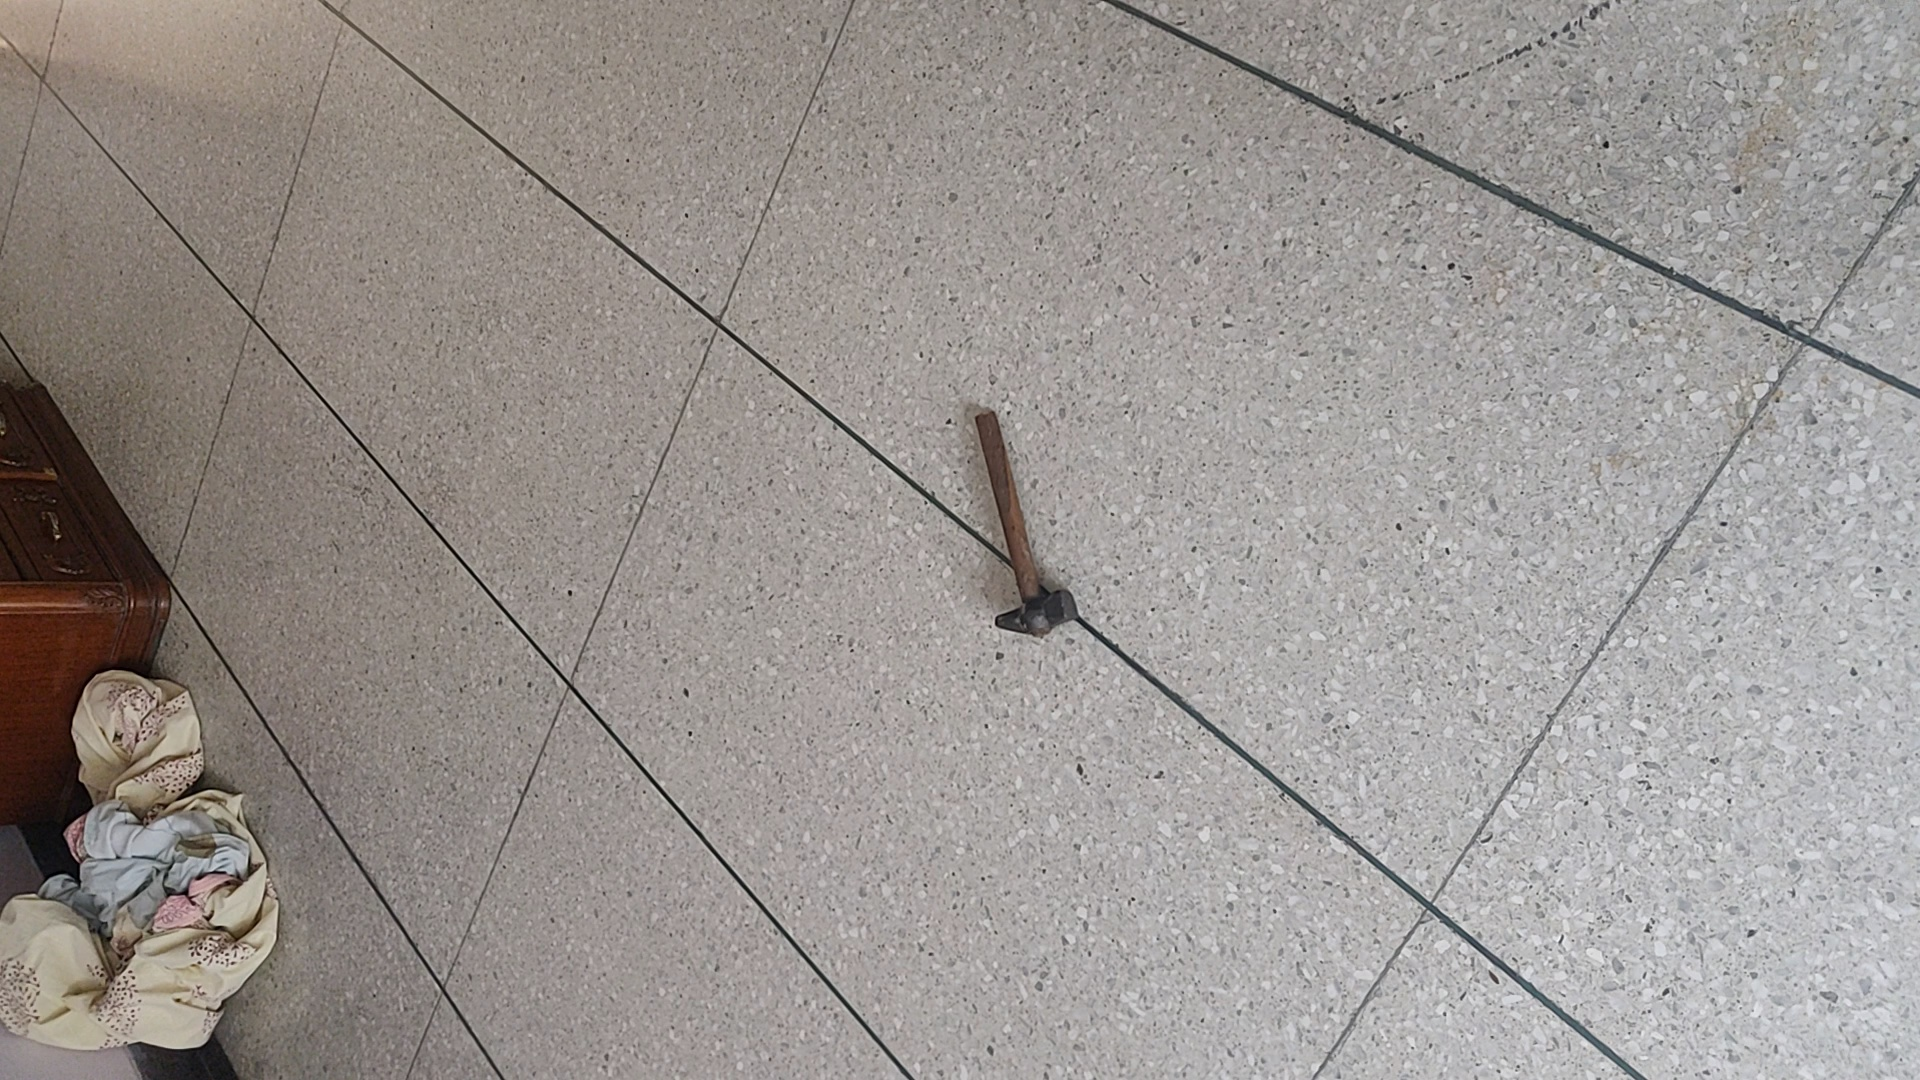hammer: (975, 405, 1080, 640)
